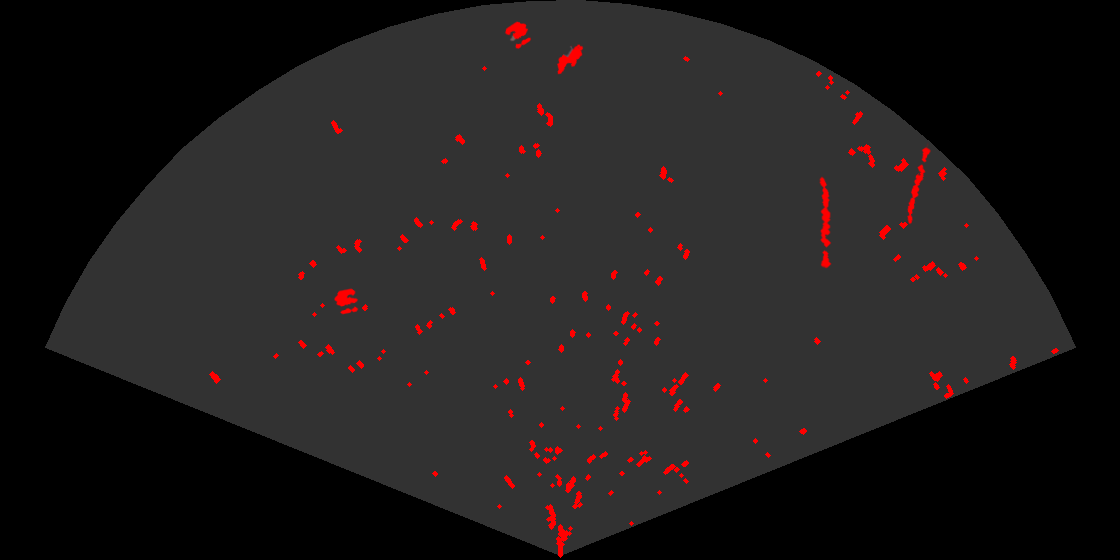AUV: (556, 43, 585, 76)
ball: (503, 20, 533, 50), (333, 287, 360, 316)
chain: (906, 142, 932, 226), (818, 176, 833, 269)
